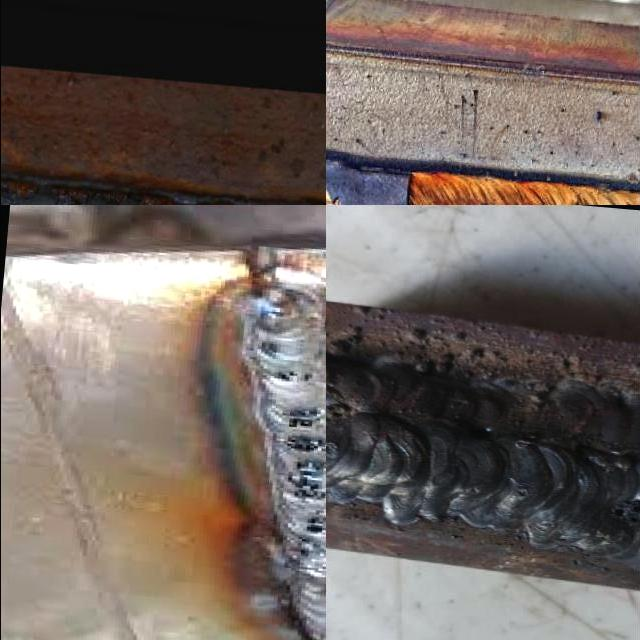defect: (280, 457, 326, 505), (605, 496, 640, 530), (284, 405, 326, 432), (278, 434, 326, 457), (271, 369, 314, 386), (326, 400, 353, 425), (300, 513, 326, 536), (514, 483, 534, 501), (326, 440, 341, 461)
